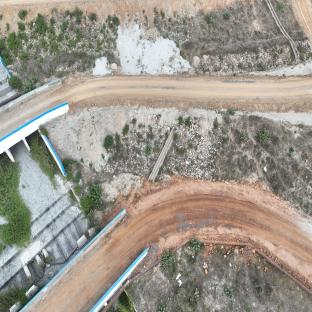rock_toe: (163, 119, 224, 183), (107, 126, 169, 176), (200, 45, 293, 77)
slope_drain: (266, 0, 299, 63), (148, 124, 178, 183)
